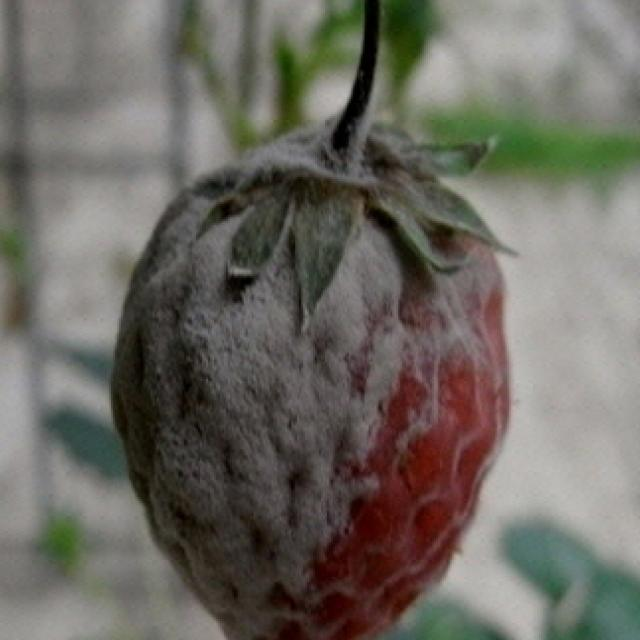Gray Mold: (107, 106, 524, 640)
